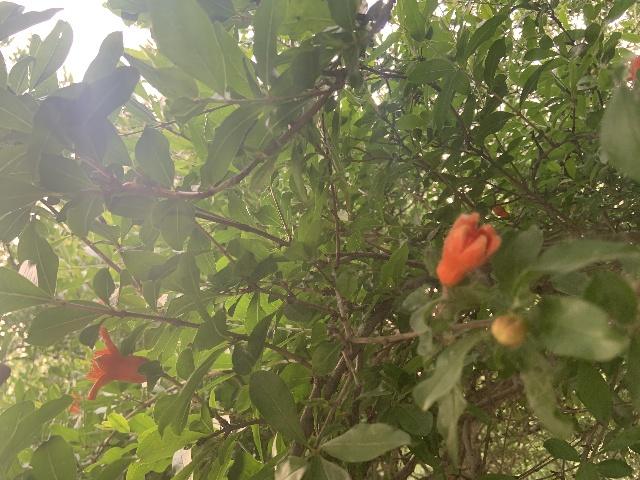bud: (492, 205, 510, 217)
flower: (436, 212, 502, 287), (85, 325, 150, 401)
